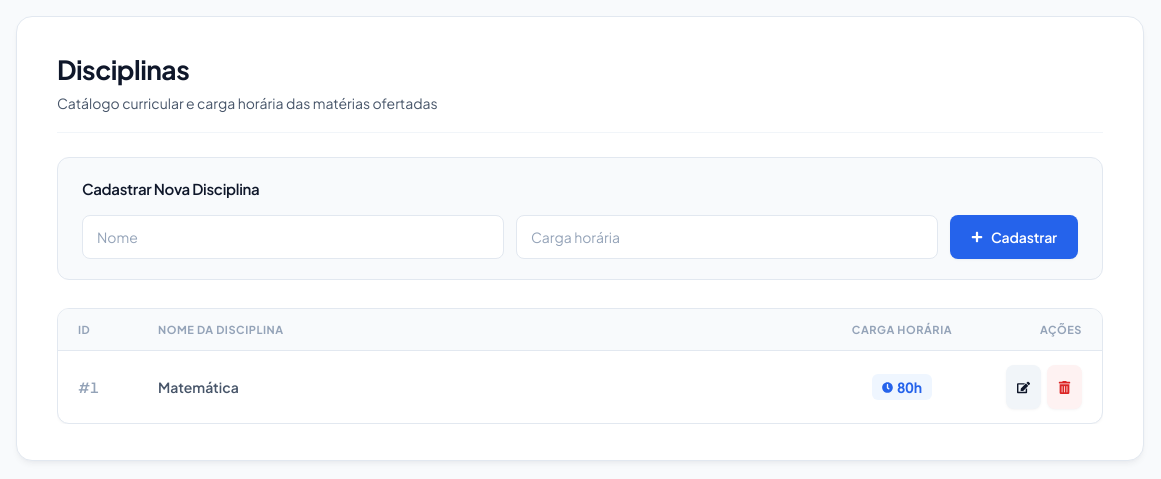
Disciplinas Page › deve permitir editar uma disciplina existente via PUT /disciplinas/:id
Expected: the text "Matemática" is shown, [138,351,822,423]
Click the button titled "Editar disciplina" at (1024, 387), box [1006,365,1041,409]
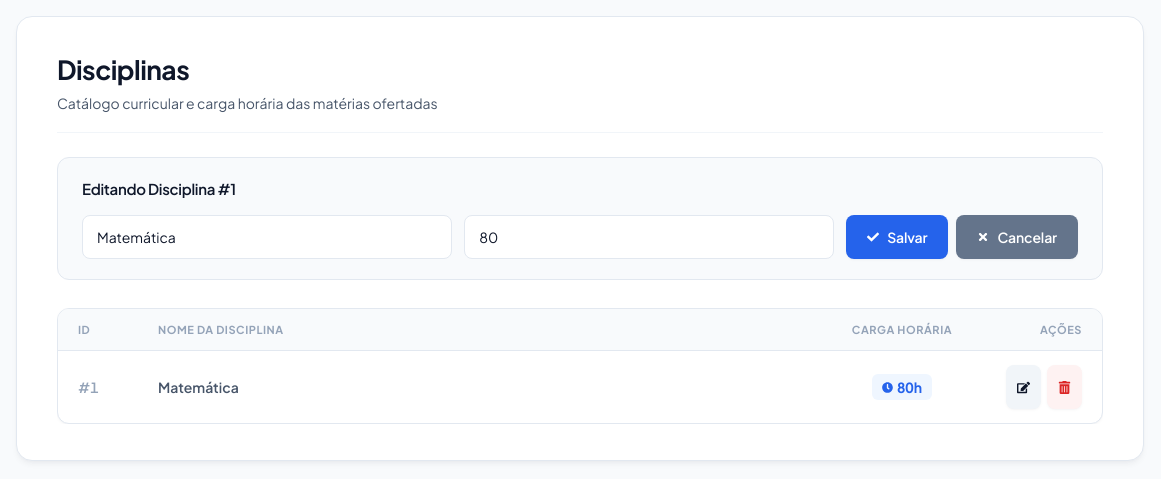
Now the heading "Editando Disciplina #1" is shown, box [82,179,236,198]
Now the field with placeholder "Nome" holds "Matemática"
Now the number field with placeholder "Carga horária" holds "80", box [464,215,834,259]
Replace the text in the field with placeholder "Nome" with "Matemática Aplicada" at (267, 237), box [82,215,452,259]
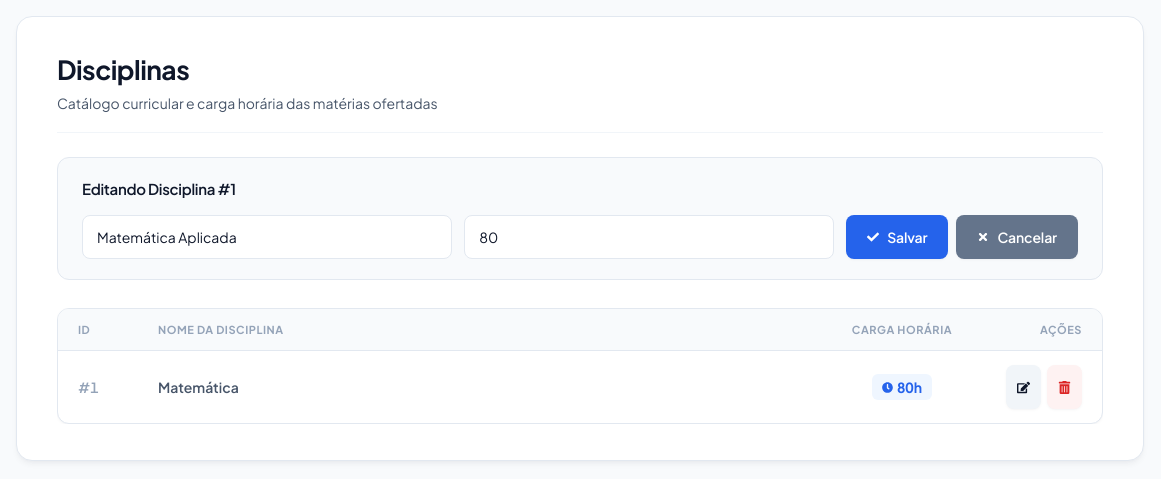
Replace the text in the number field with placeholder "Carga horária" with "100" at (649, 237), box [464,215,834,259]
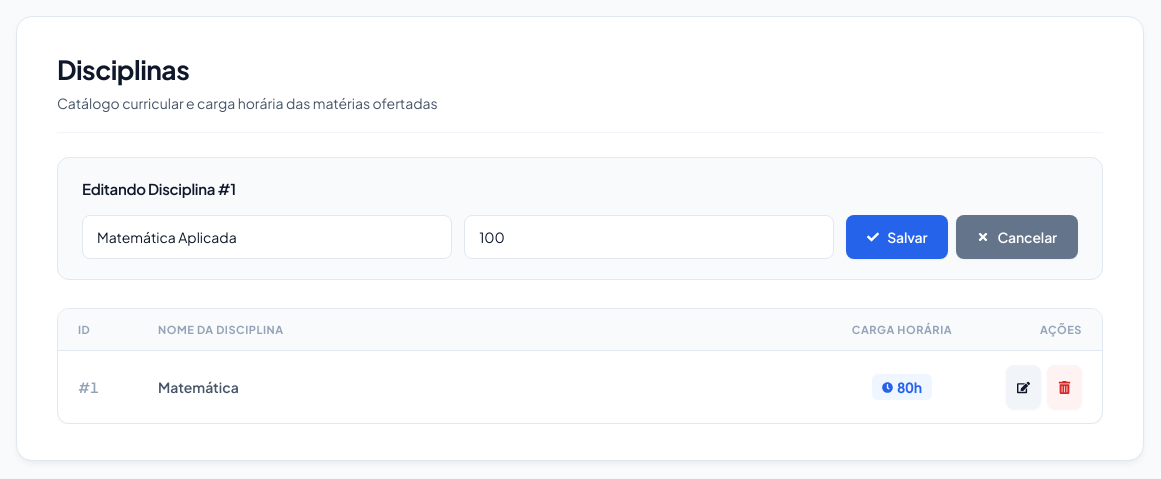
Click the button "Salvar" at (897, 237), box [846,215,948,259]
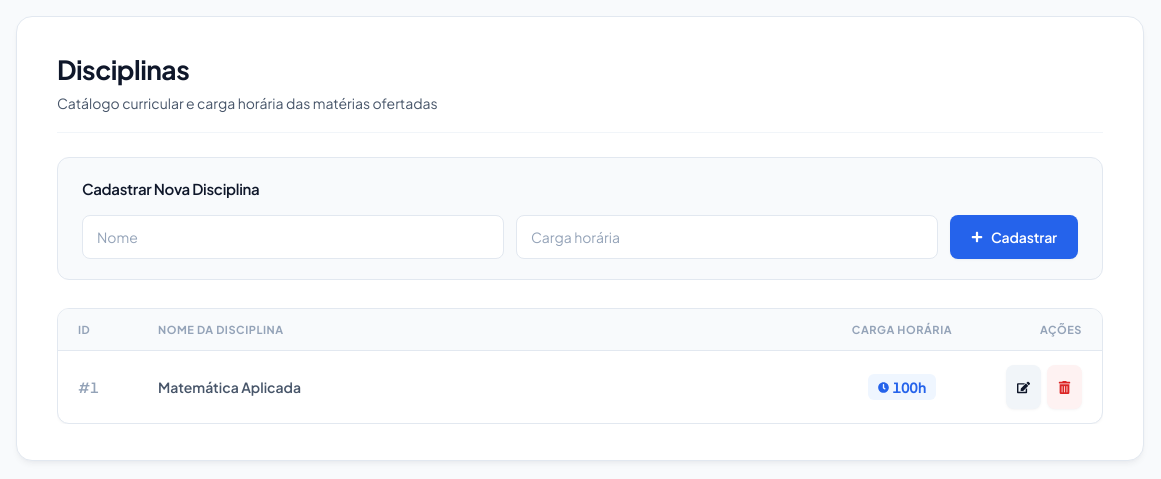
Now the text "Matemática Aplicada" is shown, box [138,351,822,423]
Now the text "100h" is shown, box [868,374,936,400]
